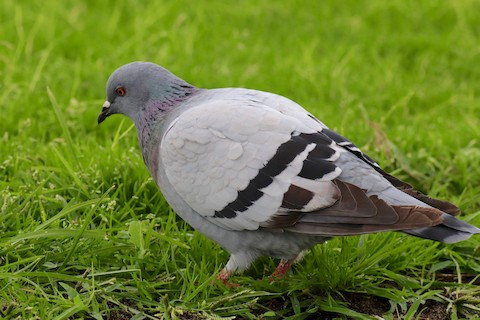pigeon: (96, 58, 469, 286)
